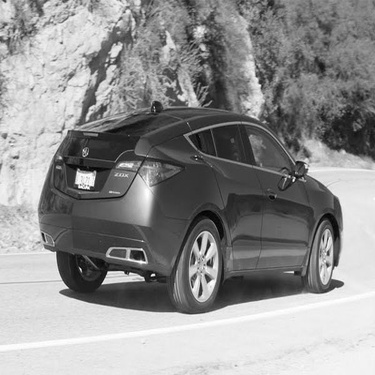car: (28, 103, 349, 318)
